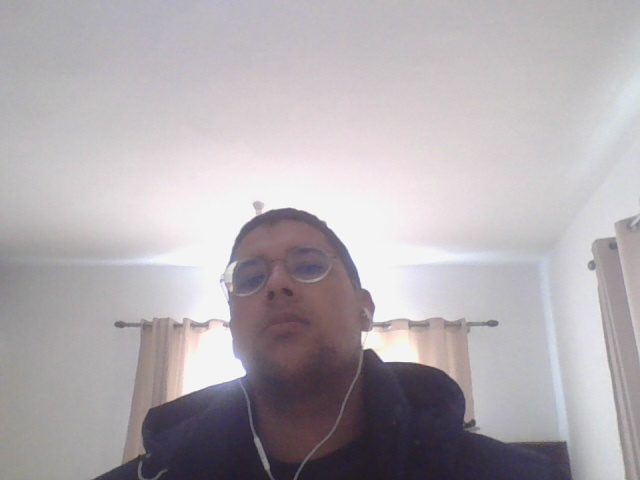real: (223, 183, 368, 388)
